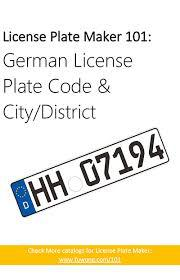0: (77, 157, 101, 187)
1: (113, 146, 133, 176)
4: (148, 133, 164, 161)
7: (94, 151, 112, 180)
9: (128, 138, 147, 169)
H: (45, 170, 69, 200), (28, 176, 51, 207)
